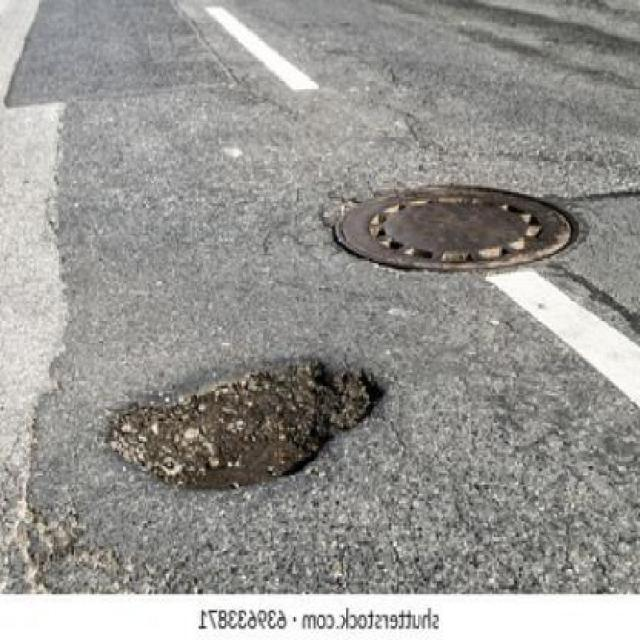pothole: (106, 361, 391, 497), (331, 181, 591, 275)
